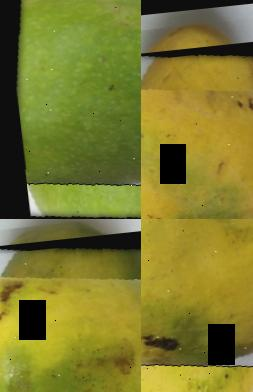PartiallyRipe: (0, 236, 141, 392)
Ripe: (141, 44, 253, 219), (141, 219, 253, 392)
Unripe: (0, 0, 141, 219)
